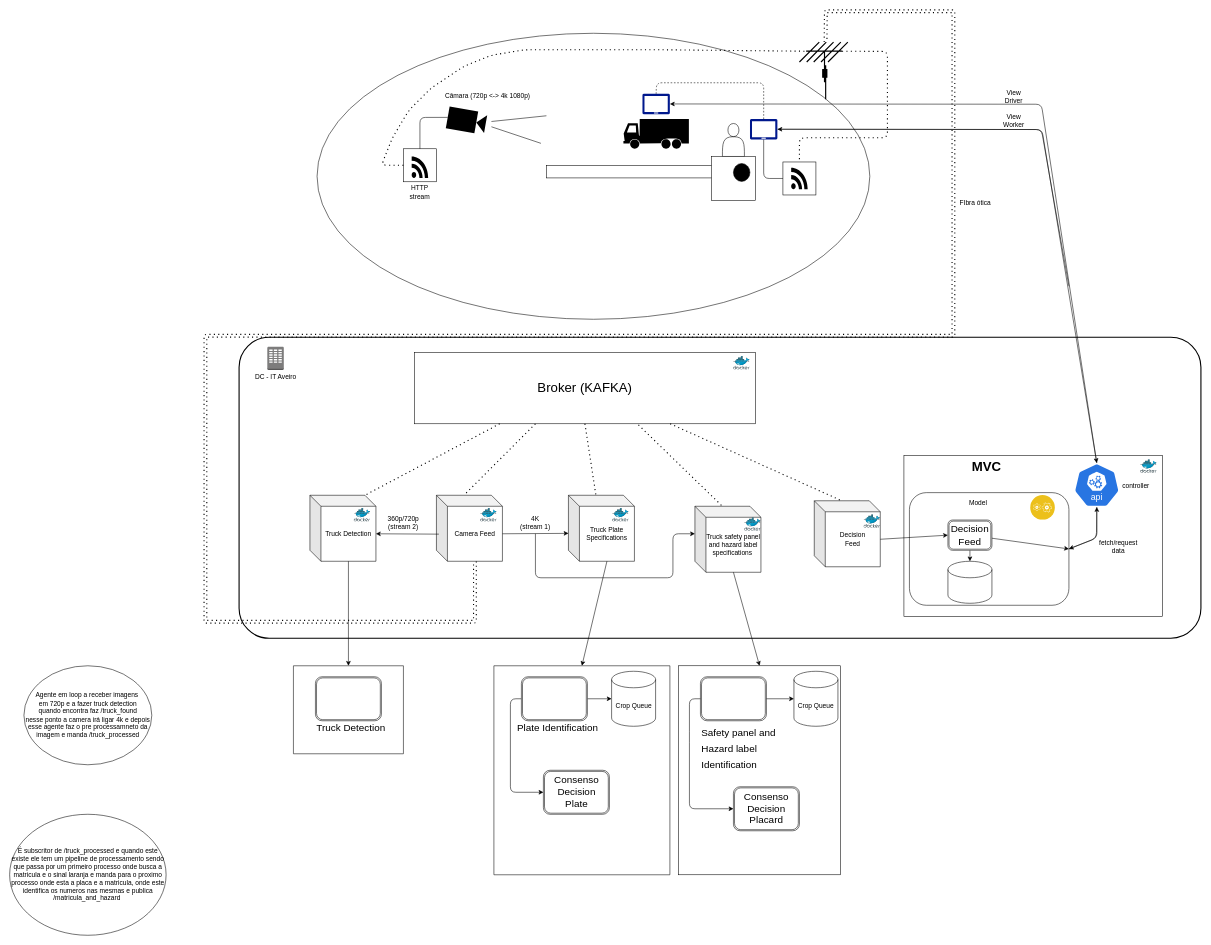
Some shapes in this 1211 by 945 pixel diagram are drawn without their labels. Here are the shapes that lost their labels. From the top down, the centre of each, then its label:
(x=823, y=70): Antena 5G
(x=631, y=171): Cancela do porto
(x=1042, y=507): Business Logic
(x=969, y=582): Database Trucks Authorized
(x=348, y=698): Agent A
(x=554, y=698): Agent B
(x=733, y=698): Agent C
